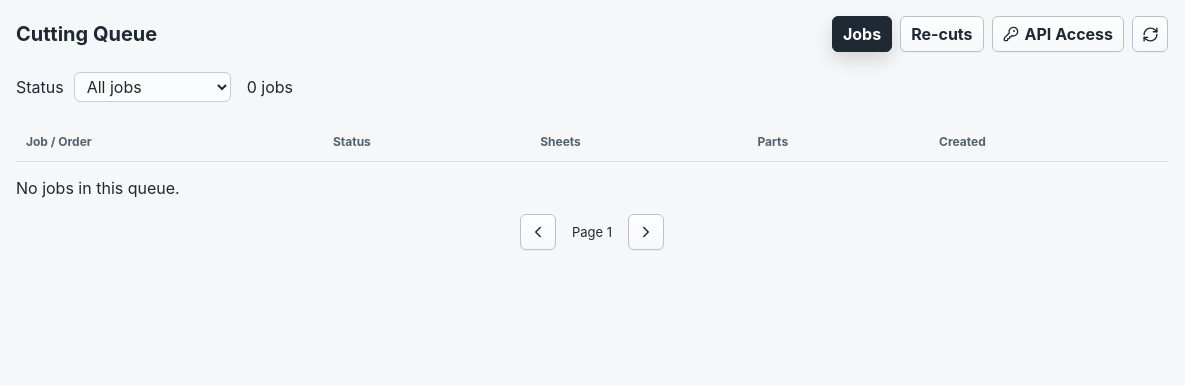
Test case: re-cut queue › refreshes saved re-cuts, shows history, and keeps the existing jobs tab available
expect the text "No jobs in this queue." is shown: met, box [16, 178, 180, 198]
Click the button "Re-cuts". click: {"x": 942, "y": 34}
box: [900, 16, 984, 52]
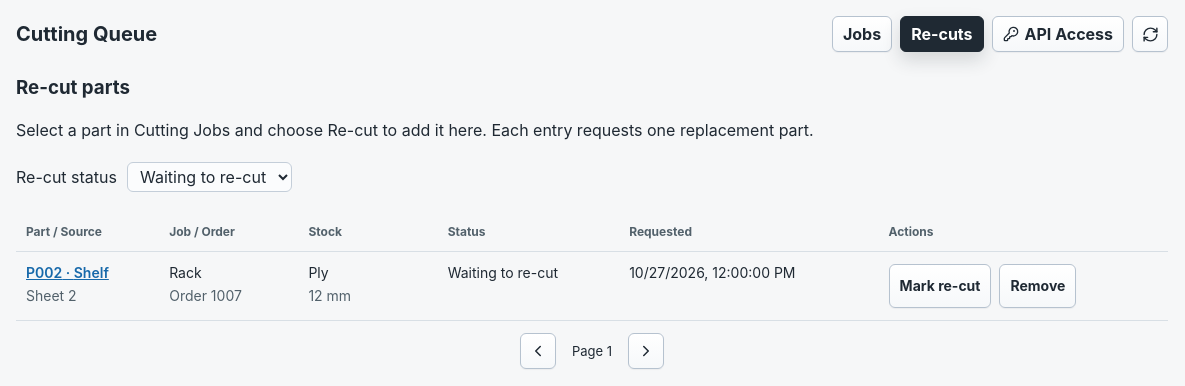
expect the link "P002 · Shelf" is shown: met, box [26, 264, 109, 281]
Select "Re-cut" in the dropdown labelled "Re-cut status". click: {"x": 210, "y": 177}
box: [127, 162, 292, 192]
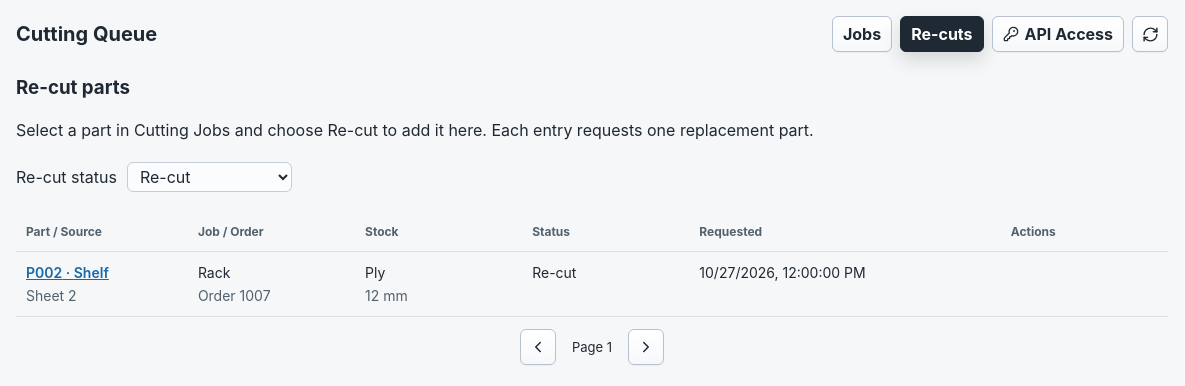
expect the link "P002 · Shelf" is shown: met, box [26, 264, 109, 281]
expect the button "Mark re-cut" is gone: met
Click the button named "Refresh queue". click: {"x": 1150, "y": 34}
box: [1132, 16, 1168, 52]
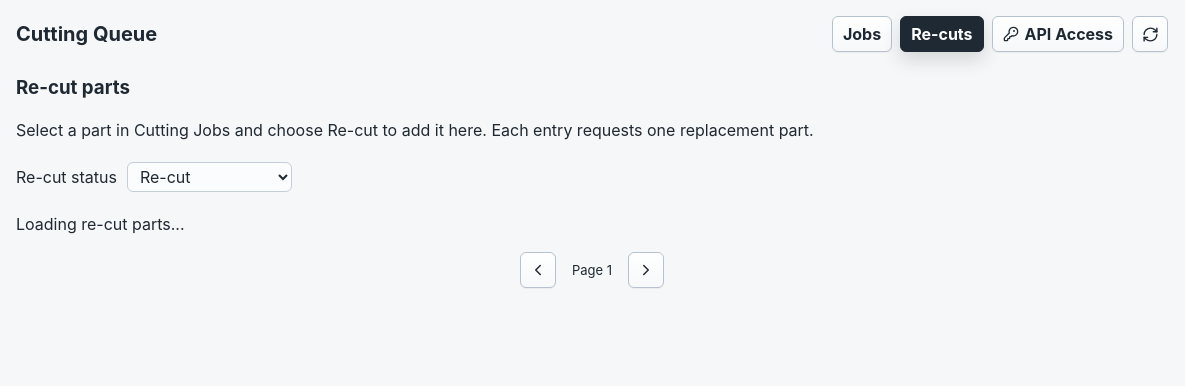
Click the button "Jobs". click: {"x": 862, "y": 34}
box: [832, 16, 892, 52]
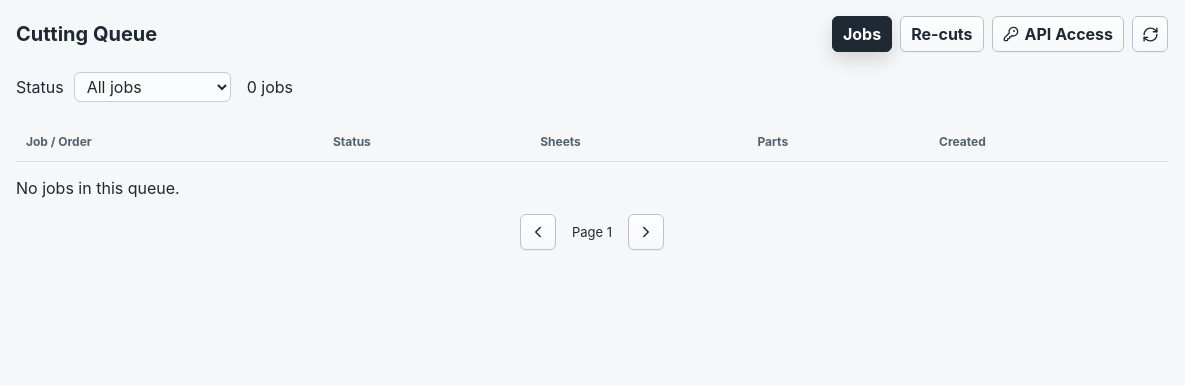
expect the text "No jobs in this queue." is shown: met, box [16, 178, 180, 198]
